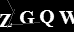G: (18, 10, 35, 25)
Q: (39, 9, 55, 27)
W: (58, 10, 74, 25)
Z: (1, 12, 12, 27)
